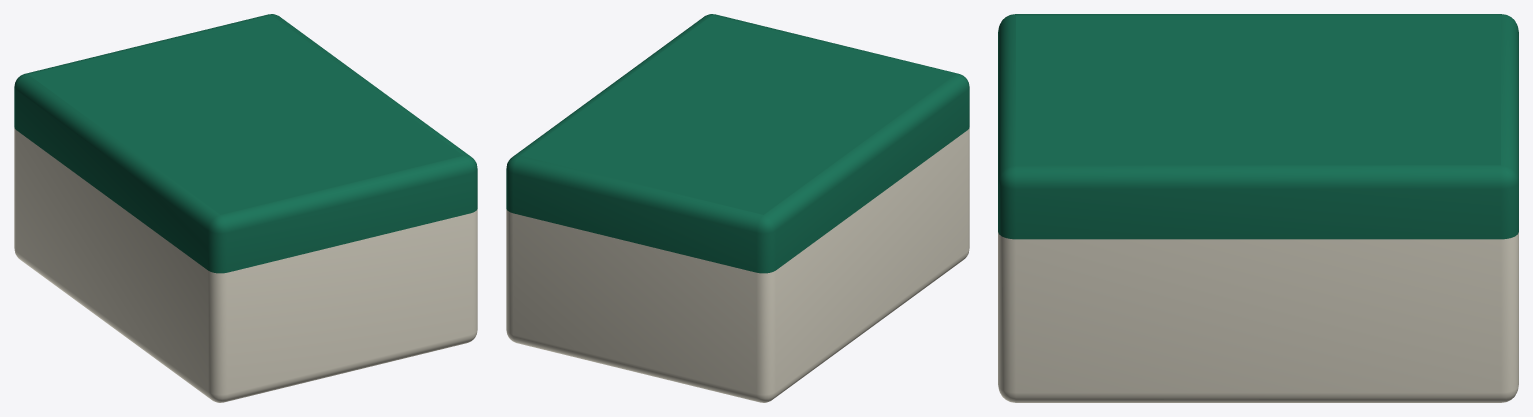
The model's file is concealed.glb.
The picture shows the model from 3 angles, left to right: view 1: azimuth 30°, elevation 25°; view 2: azimuth 150°, elevation 25°; view 3: azimuth 270°, elevation 25°; orthographic projection. The views are drawn at different scales.
Visible parts, largest first — view 1: concealed_body; view 2: concealed_body; view 3: concealed_body.
Part boxes in pixels (<box>): concealed_body: <box>14,14,477,402</box>; concealed_body: <box>506,14,969,402</box>; concealed_body: <box>998,14,1518,402</box>.
Bounding box in the file's own units: 0.024 × 0.016 × 0.032.
